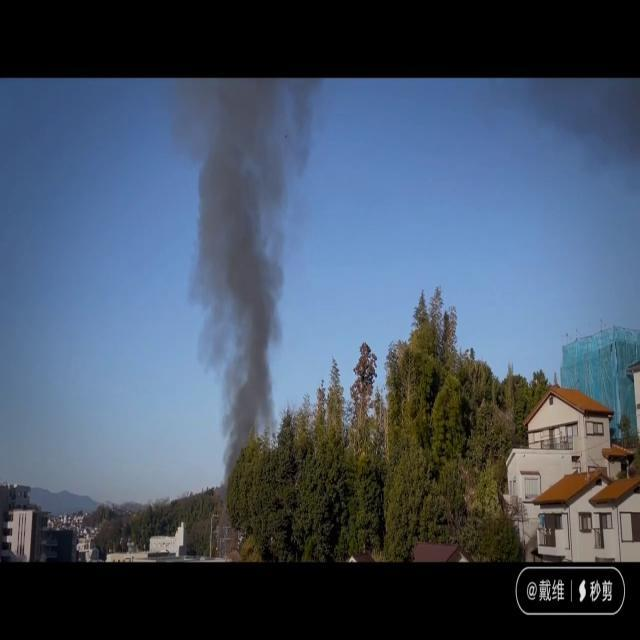Smoke: (178, 79, 306, 436)
